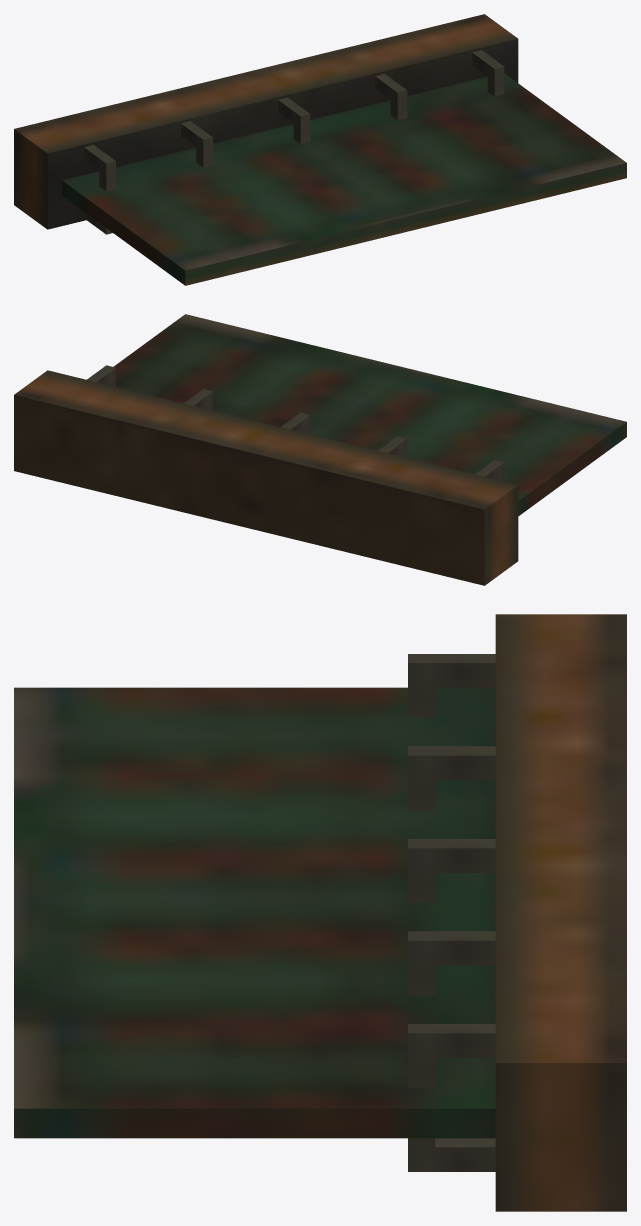
Rendered from data_block_etx_1.obj.
3 renders of one model, top to bottom at view 1: azimuth 30°, elevation 25°; view 2: azimuth 150°, elevation 25°; view 3: azimuth 270°, elevation 25°, orthographic. The views are drawn at different scales.
Parts seen in each view (by area): view 1: data_block_etx_1; view 2: data_block_etx_1; view 3: data_block_etx_1.
Part boxes in pixels (left/top/right/bottom): data_block_etx_1: left=14, top=14, right=626, bottom=285; data_block_etx_1: left=14, top=314, right=626, bottom=585; data_block_etx_1: left=14, top=614, right=626, bottom=1211.
Bounding box in the file's own units: 0.194 × 0.03 × 0.112.
